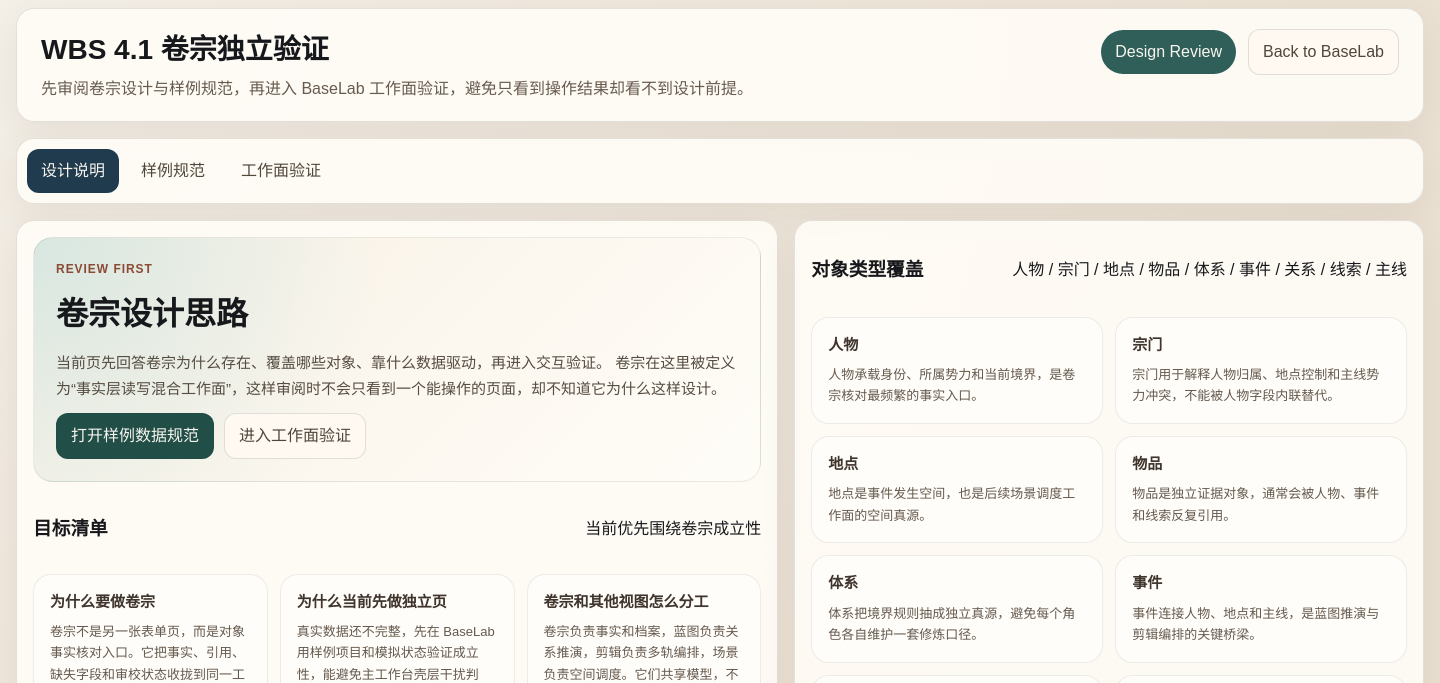
Test: DossierAbilityLab › shows relation archive and appearance records for the active dossier
Click the tab "工作面验证".
click(281, 171)  # box [227, 149, 335, 193]
(page scrolled)
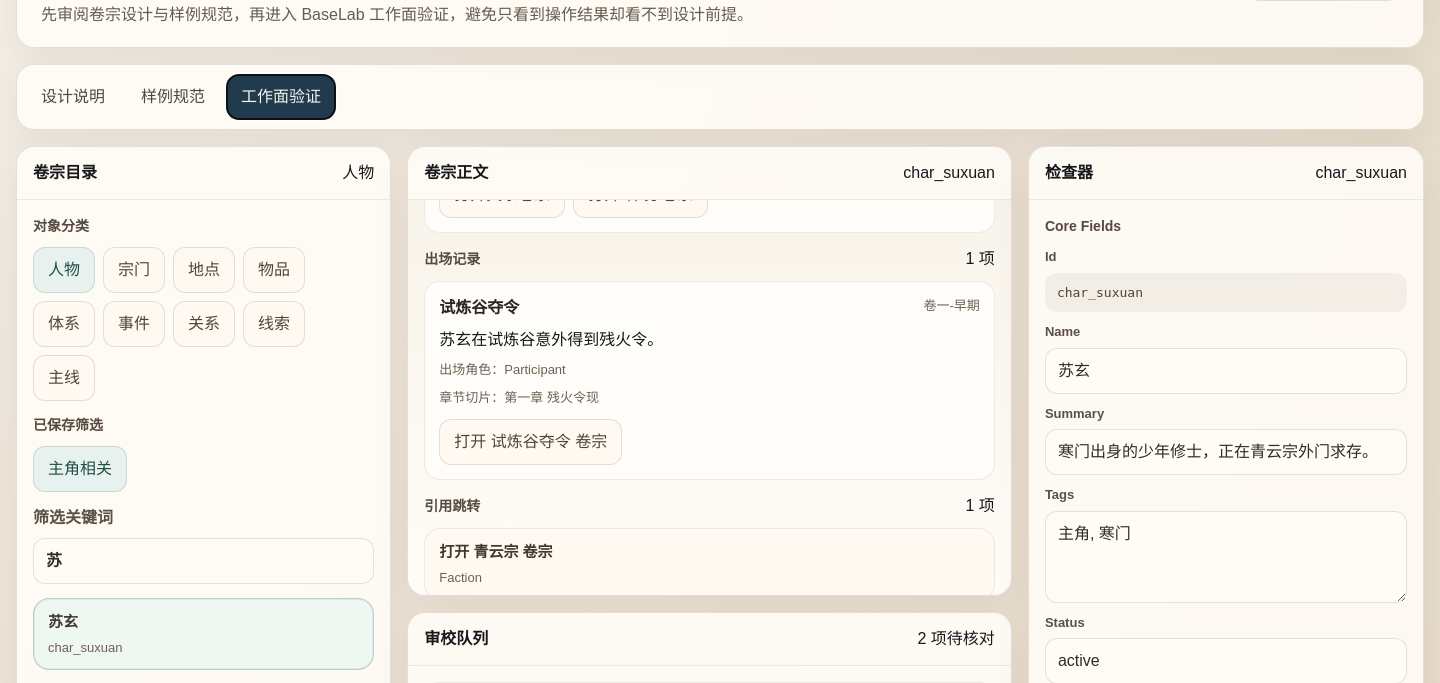
Expected: the heading "出场记录" is shown, [424, 249, 480, 270]
Result: the text "章节切片：第一章 残火令现" is shown at [439, 390, 599, 405]
